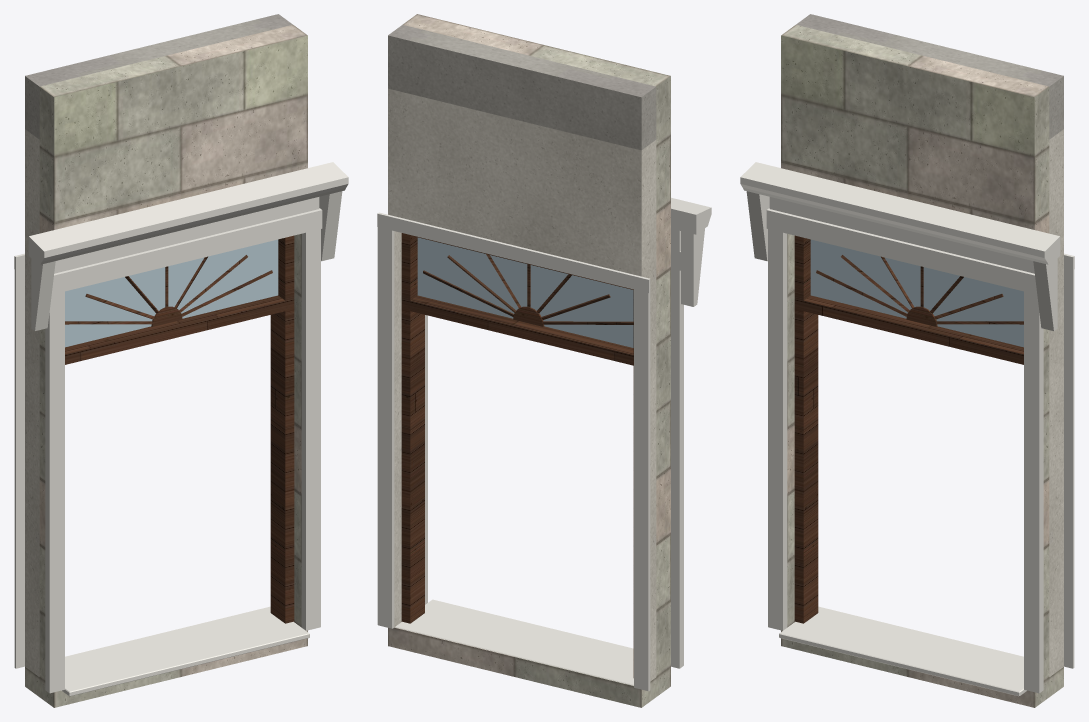
Rendered from w_door.glb.
3 views of the same model, side by side, from view 1: azimuth 30°, elevation 25°; view 2: azimuth 150°, elevation 25°; view 3: azimuth 330°, elevation 25° (orthographic).
Parts seen in each view (by area): view 1: w_door_trim, w_door_stone, w_door_dkwood, w_door_glass, w_door_plaster, w_door_concrete; view 2: w_door_plaster, w_door_trim, w_door_stone, w_door_concrete, w_door_dkwood, w_door_glass; view 3: w_door_trim, w_door_stone, w_door_dkwood, w_door_glass, w_door_plaster, w_door_concrete.
Part boxes in pixels (bbox=[...]): w_door_trim: bbox=[14, 162, 348, 696]; w_door_stone: bbox=[25, 25, 307, 707]; w_door_dkwood: bbox=[65, 235, 294, 623]; w_door_glass: bbox=[65, 239, 278, 347]; w_door_plaster: bbox=[25, 129, 39, 676]; w_door_concrete: bbox=[25, 14, 292, 139]; w_door_plaster: bbox=[388, 88, 656, 681]; w_door_trim: bbox=[377, 197, 711, 691]; w_door_stone: bbox=[388, 14, 670, 707]; w_door_concrete: bbox=[388, 24, 656, 150]; w_door_dkwood: bbox=[401, 233, 633, 677]; w_door_glass: bbox=[417, 237, 633, 347]; w_door_trim: bbox=[740, 162, 1074, 696]; w_door_stone: bbox=[781, 25, 1063, 707]; w_door_dkwood: bbox=[794, 235, 1023, 623]; w_door_glass: bbox=[810, 239, 1023, 347]; w_door_plaster: bbox=[1049, 129, 1063, 676]; w_door_concrete: bbox=[796, 14, 1063, 139].
Bounding box in the file's own units: 2.4 × 4.6 × 0.632.
6 materials, 4 textured.
